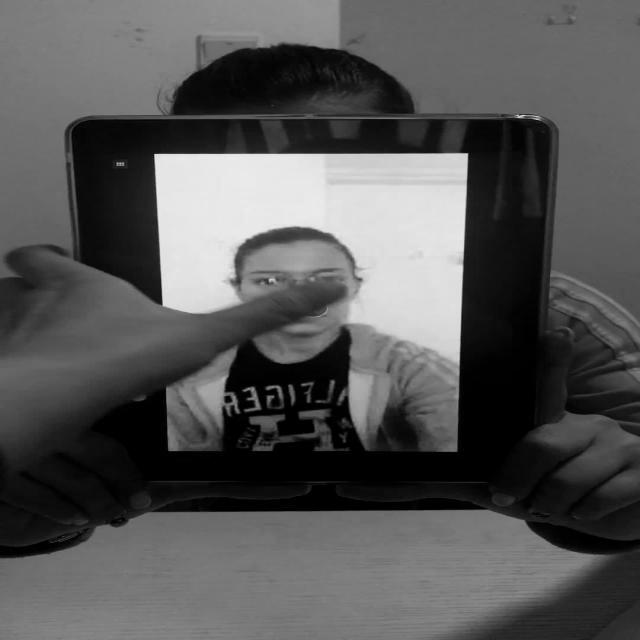fake: (61, 113, 567, 492)
